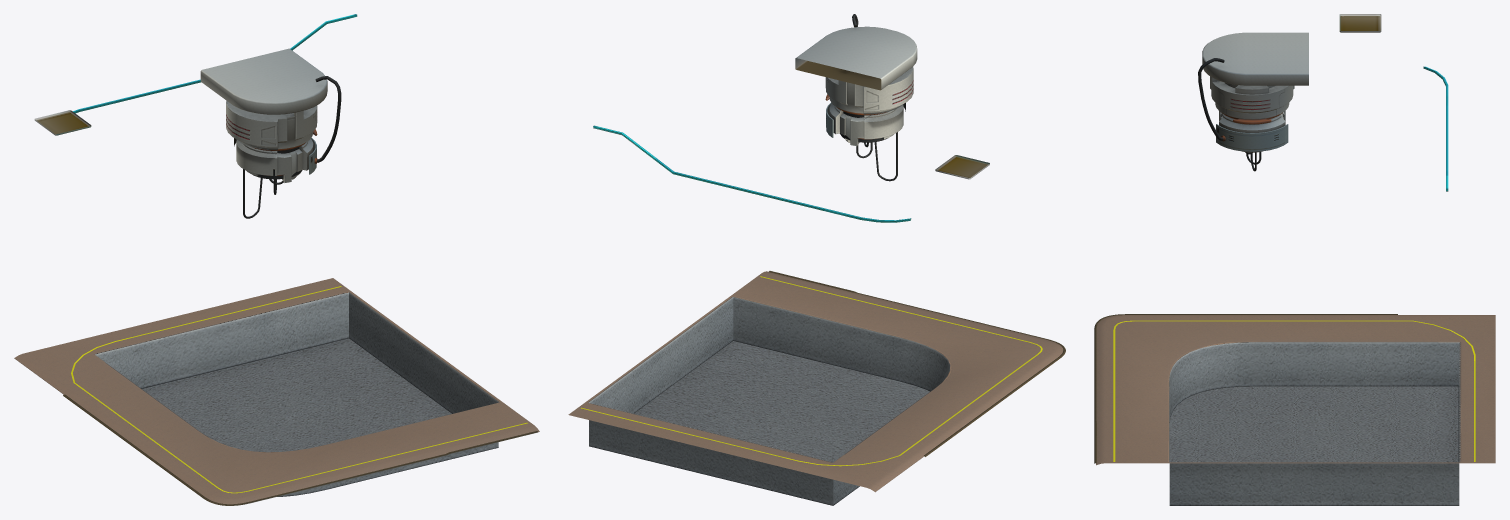
File: Pico_02_R.fbx
3 views of the same model, side by side, from view 1: azimuth 30°, elevation 25°; view 2: azimuth 150°, elevation 25°; view 3: azimuth 270°, elevation 25° (orthographic). The views are drawn at different scales.
Visible parts, largest first — view 1: Pico_02_1_keng1, Pico_02_DiTan_01, Pico_02_ZhongShu_01, Pico_02_ZhongShu_02, Pico_02_DiTan_02, Pico_02_Deng_01, Pico_02_Deng_03; view 2: Pico_02_1_keng1, Pico_02_DiTan_01, Pico_02_ZhongShu_02, Pico_02_ZhongShu_01, Pico_02_DiTan_02, Pico_02_Deng_03, Pico_02_Deng_01; view 3: Pico_02_1_keng1, Pico_02_DiTan_01, Pico_02_ZhongShu_01, Pico_02_ZhongShu_02, Pico_02_DiTan_02, Pico_02_Deng_01.
Boxes of the visible parts, <box> form: Pico_02_1_keng1: <box>95,292,498,496</box>; Pico_02_DiTan_01: <box>14,278,539,505</box>; Pico_02_ZhongShu_01: <box>226,76,341,218</box>; Pico_02_ZhongShu_02: <box>200,48,327,114</box>; Pico_02_DiTan_02: <box>71,286,527,493</box>; Pico_02_Deng_01: <box>34,110,91,135</box>; Pico_02_Deng_03: <box>73,14,357,113</box>; Pico_02_1_keng1: <box>588,297,949,505</box>; Pico_02_DiTan_01: <box>568,271,1065,492</box>; Pico_02_ZhongShu_02: <box>795,26,917,90</box>; Pico_02_ZhongShu_01: <box>825,14,913,181</box>; Pico_02_DiTan_02: <box>581,276,1042,466</box>; Pico_02_Deng_03: <box>593,125,911,222</box>; Pico_02_Deng_01: <box>935,155,989,179</box>; Pico_02_1_keng1: <box>1169,342,1459,505</box>; Pico_02_DiTan_01: <box>1094,314,1495,465</box>; Pico_02_ZhongShu_01: <box>1198,58,1294,171</box>; Pico_02_ZhongShu_02: <box>1202,32,1308,85</box>; Pico_02_DiTan_02: <box>1113,320,1475,461</box>; Pico_02_Deng_01: <box>1339,14,1381,32</box>.
Size of the model in its own units: 423 by 442 by 425.
